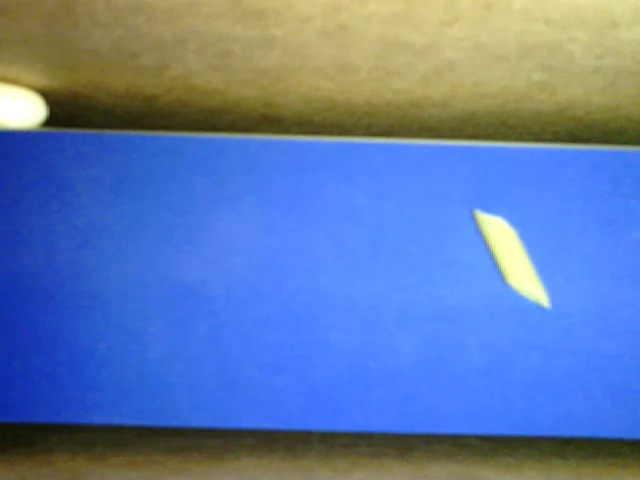penne: (472, 208, 550, 307)
